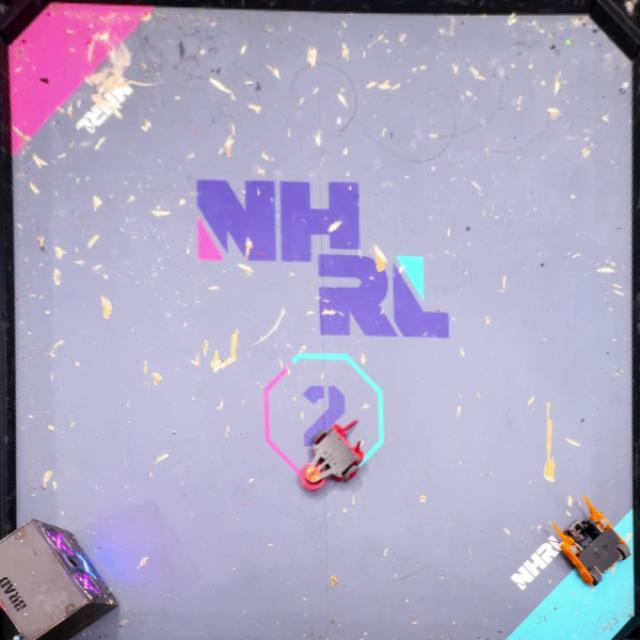housebot: (0, 517, 122, 640)
robot: (550, 496, 630, 584), (300, 420, 364, 488)
